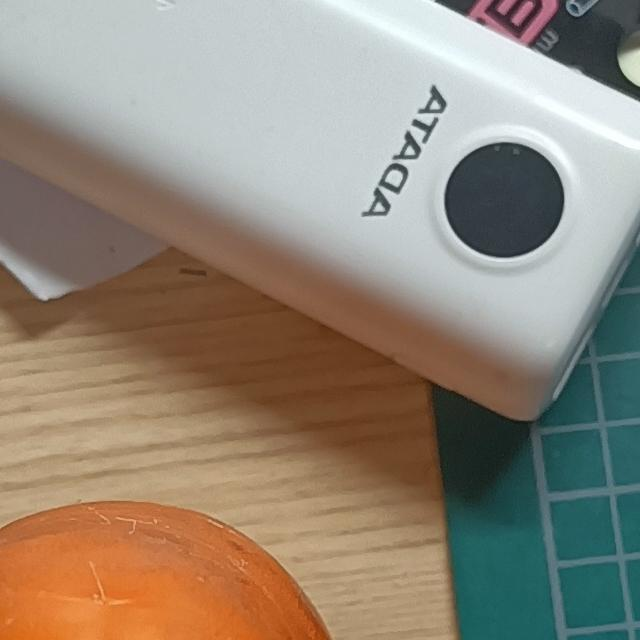carrot: (1, 487, 360, 640)
